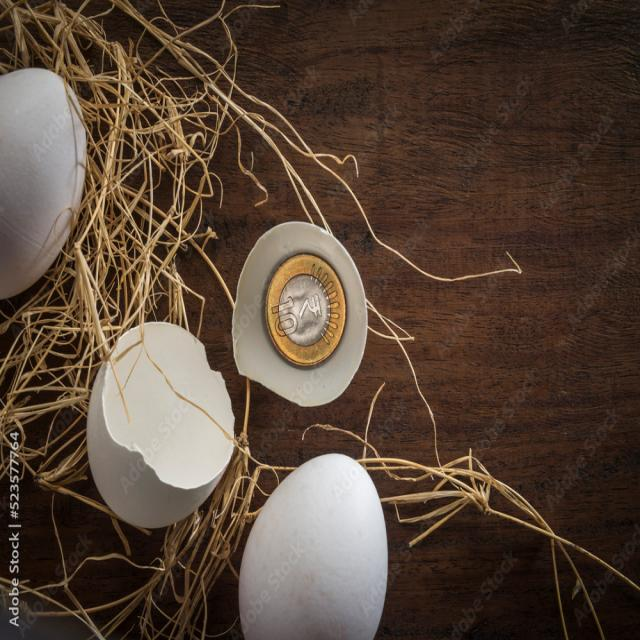wet: (83, 315, 237, 540), (211, 216, 389, 406), (244, 457, 414, 640), (4, 70, 90, 282)
